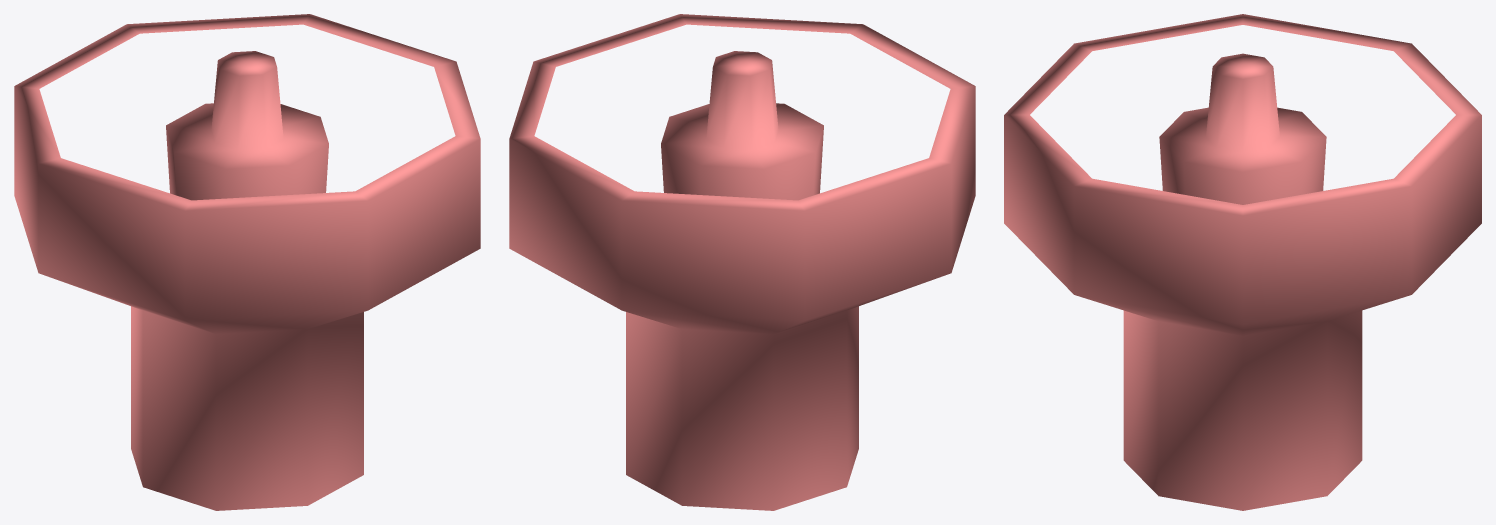
Rendered from entity430308.gltf.
3 views of the same model, side by side, from view 1: azimuth 30°, elevation 25°; view 2: azimuth 150°, elevation 25°; view 3: azimuth 270°, elevation 25° (orthographic).
Parts seen in each view (by area): view 1: node_pCylinder33; view 2: node_pCylinder33; view 3: node_pCylinder33.
Boxes of the visible parts, x1,y1,x2,y2 form: node_pCylinder33: (14,14,480,510); node_pCylinder33: (509,14,975,510); node_pCylinder33: (1004,14,1481,510).
Bounding box in the file's own units: 2 × 1.82 × 2.
